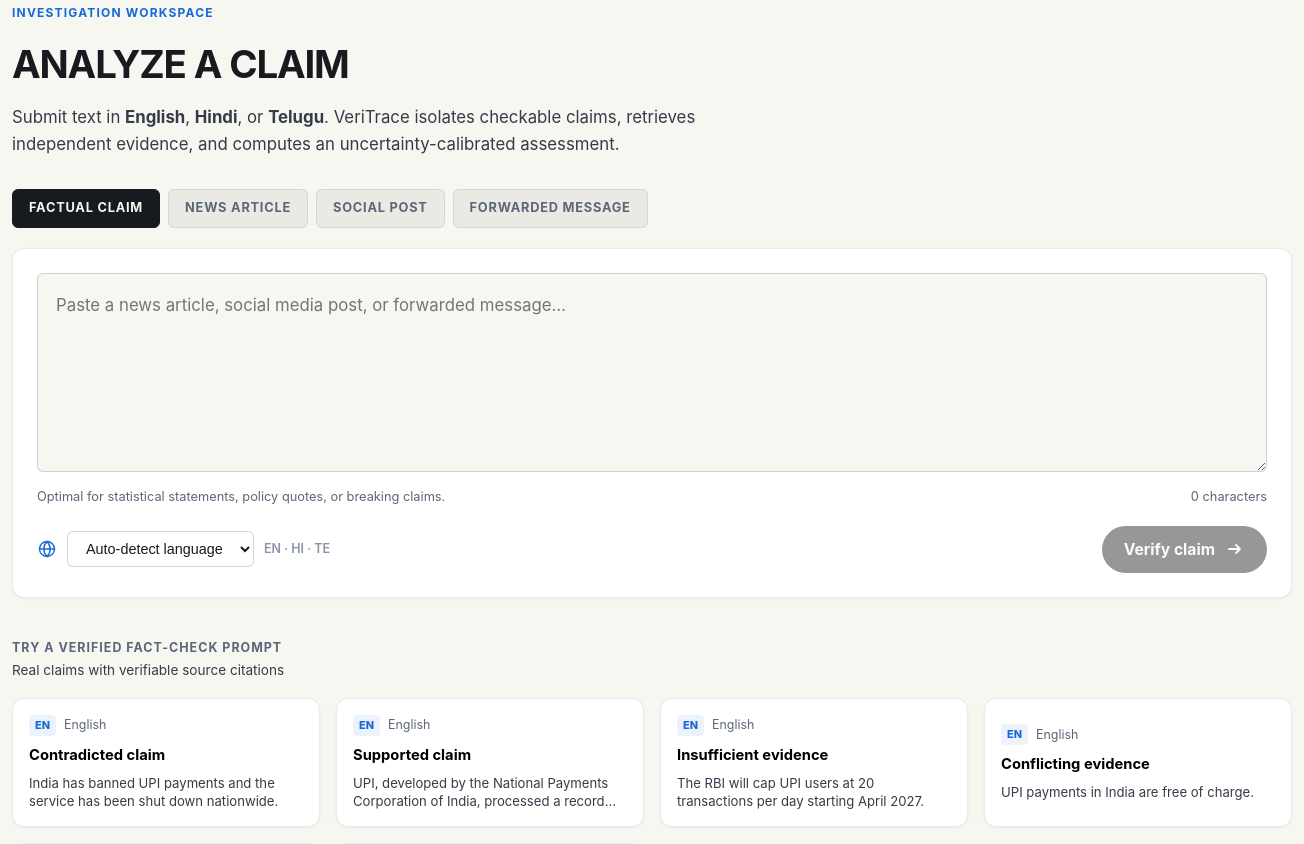
Test: Responsive Design & Mobile Ergonomics Suite › renders AnalyzeWorkspace with responsive input elements and mode tabs
Check: the text box named "Text to verify" is shown, box left=37, top=273, right=1267, bottom=472
// Mode tabs exist and switch active mode
Click the tab "NEWS ARTICLE" at (238, 209), box left=168, top=189, right=308, bottom=228
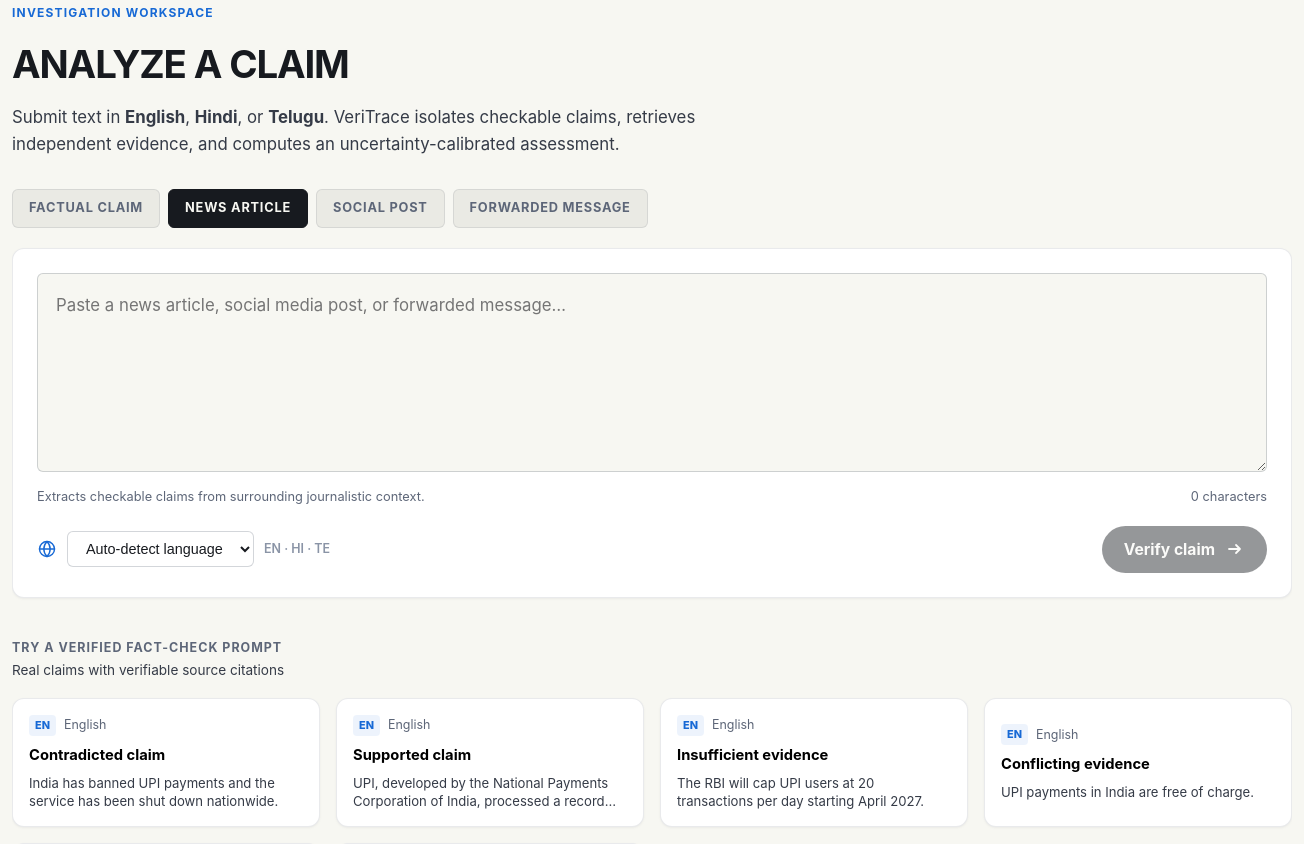
Check: the tab "NEWS ARTICLE" has class "active", box left=168, top=189, right=308, bottom=228
// Typing into textarea updates character count
Replace the text in the text box named "Text to verify" with "Heavy rains caused flooding across Kathmandu Valley." at (652, 372), box left=37, top=273, right=1267, bottom=472
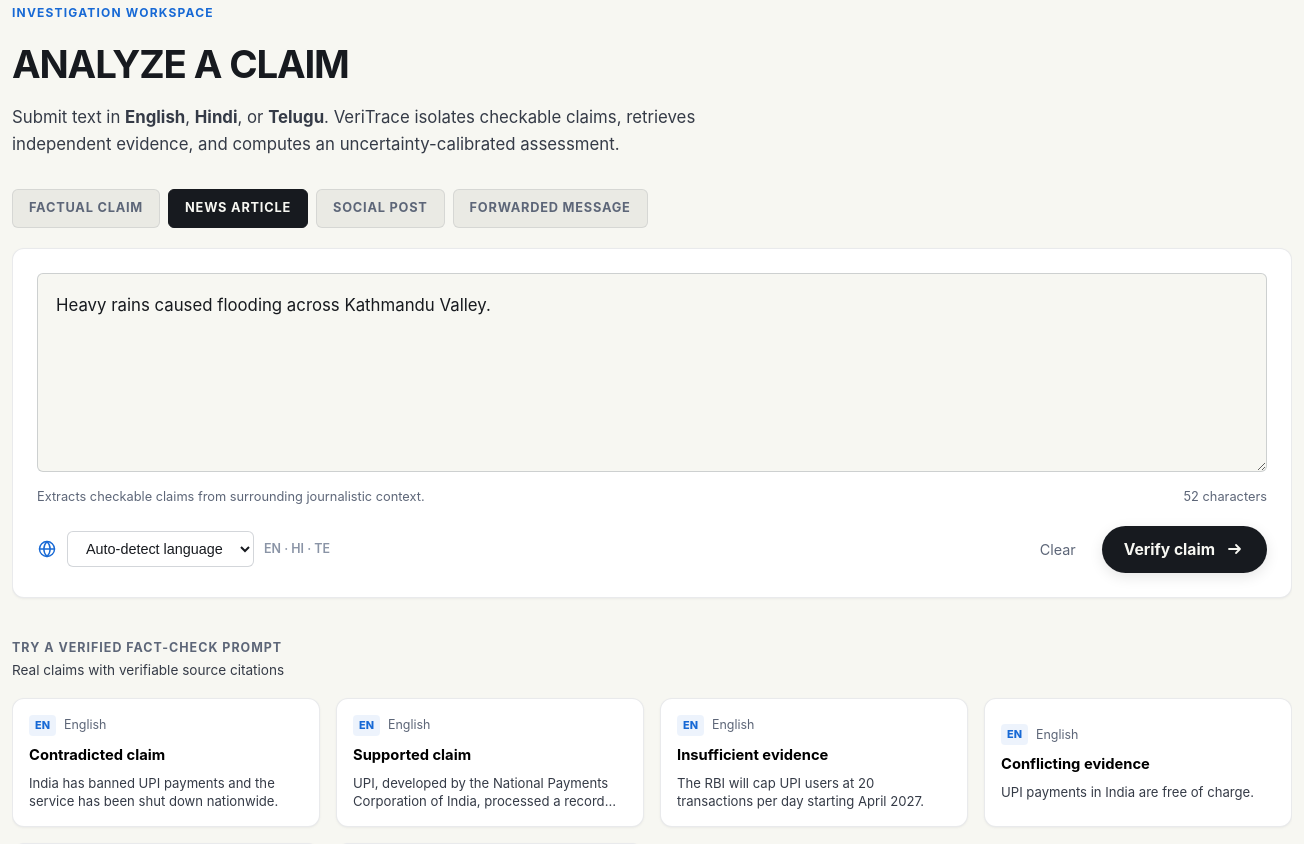
Check: the button "Verify claim" is shown, box left=1102, top=526, right=1267, bottom=573
Check: the text "52 characters" is shown, box left=1184, top=487, right=1267, bottom=508
